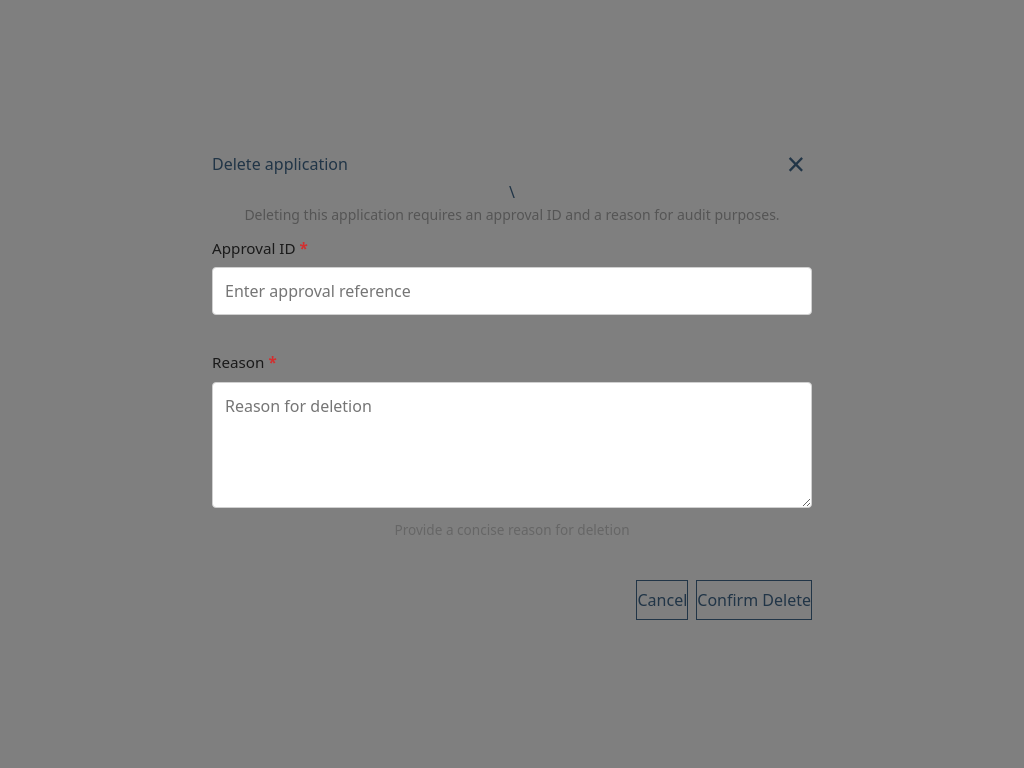
Scenario: DeleteConfirmModal › shows error when fields are empty and confirm is clicked
Click the button "Confirm Delete": (754, 600) [696, 580, 812, 620]
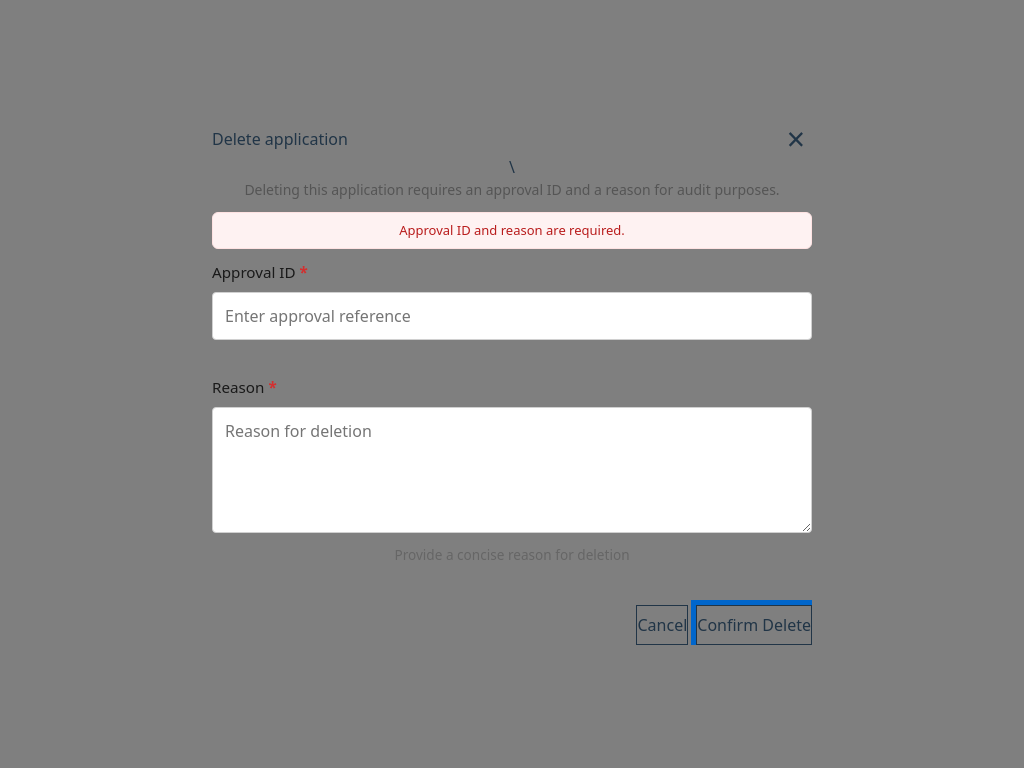
Now the text "Approval ID and reason are required." is shown, box [212, 212, 812, 249]
